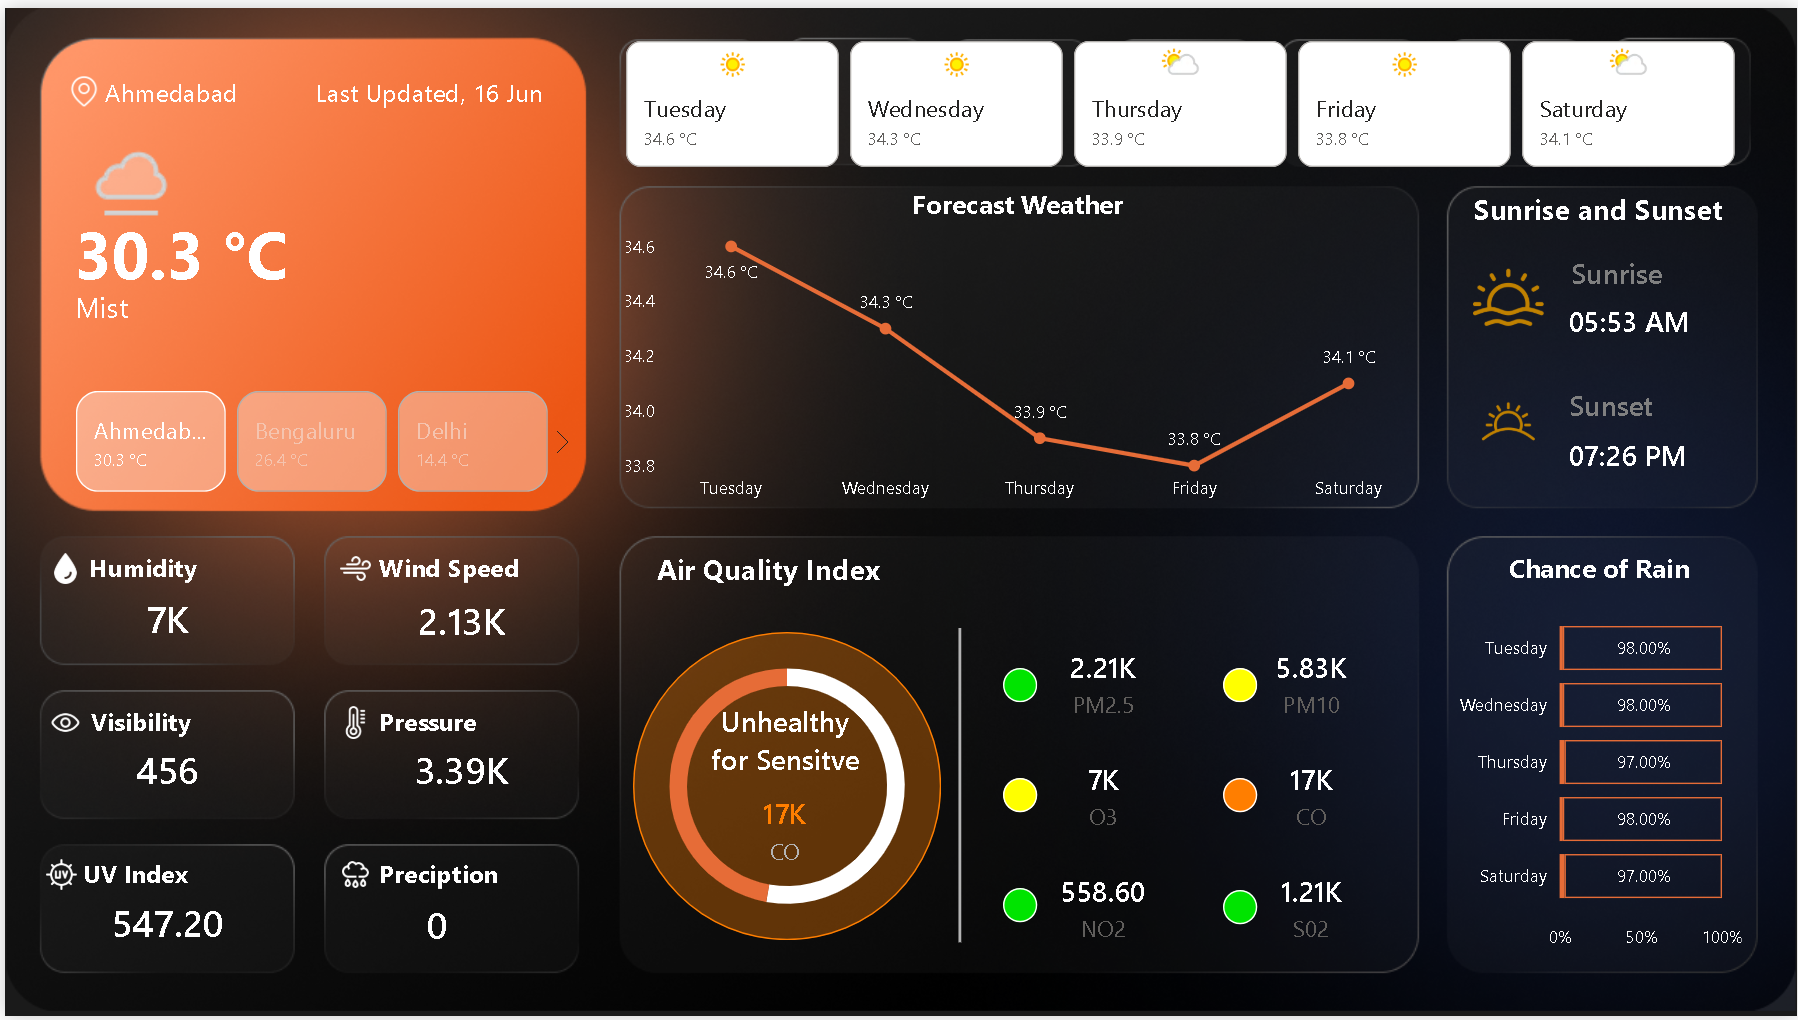

The dashboard page shown, as its layout file describes it:
{"tool":"powerbi","page":{"name":"Overview","canvas":[1280,720],"ordinal":0},"visuals":[{"type":"advancedSlicerVisual","fields":{"Values":["locations.location.name"]},"box":[26,269,388.3,82.5],"z":0},{"type":"shape","box":[50.4,117.7,223.2,114.6],"z":1000},{"type":"shape","box":[50.4,155.9,223.2,114.6],"z":2000},{"type":"shape","box":[71.8,3.1,223.2,114.6],"z":3000},{"type":"shape","box":[162,3.1,223.2,114.6],"z":4000},{"type":"image","box":[45.9,33.6,21.4,50.4],"z":5000},{"type":"cardVisual","fields":{"Data":["Min(Current.current.condition.icon)"]},"box":[26.7,0,126.7,168.3],"z":6000},{"type":"shape","box":[60,386.7,181.7,91.7],"z":7000},{"type":"image","box":[31.7,386.7,23.3,26.7],"z":8000},{"type":"shape","box":[266.7,386.7,181.7,91.7],"z":9000},{"type":"shape","box":[61.7,496.7,181.7,91.7],"z":10000},{"type":"shape","box":[266.7,496.7,181.7,91.7],"z":11000},{"type":"shape","box":[55,605,181.7,91.7],"z":12000},{"type":"shape","box":[266.7,605,181.7,91.7],"z":13000},{"type":"image","box":[31.7,496.7,23.3,26.7],"z":14000},{"type":"image","box":[28.3,605,23.3,26.7],"z":15000},{"type":"image","box":[238.3,386.7,23.3,26.7],"z":16000},{"type":"image","box":[238.3,496.7,23.3,26.7],"z":17000},{"type":"image","box":[238.3,605,23.3,26.7],"z":18000},{"type":"cardVisual","fields":{"Data":["Sum(Current.current.humidity)"]},"box":[26.7,388.3,178.3,91.7],"z":19000},{"type":"cardVisual","fields":{"Data":["Sum(Current.current.wind_kph)"]},"box":[236.7,390,178.3,91.7],"z":20000},{"type":"cardVisual","fields":{"Data":["Sum(Current.current.vis_km)"]},"box":[26.7,496.7,178.3,91.7],"z":21000},{"type":"cardVisual","fields":{"Data":["Sum(Current.current.uv)"]},"box":[26.7,605,178.3,91.7],"z":22000},{"type":"cardVisual","fields":{"Data":["Sum(Current.current.pressure_in)"]},"box":[236.7,496.7,178.3,91.7],"z":23000},{"type":"cardVisual","fields":{"Data":["Sum(Current.current.precip_in)"]},"box":[220,606.7,178.3,91.7],"z":24000},{"type":"advancedSlicerVisual","fields":{"Values":["Forecost_Day.Day_Name"]},"box":[438.3,18.3,806.7,100],"z":25000},{"type":"lineChart","title":"Forecast Weather","fields":{"Y":["Sum(Forecost_Day.forecast.forecastday.day.avgtemp_c)"],"Category":["Forecost_Day.Day_Name"]},"box":[438.7,126.9,570.2,233.9],"z":26000},{"type":"shape","box":[1031.8,129.9,214,91.7],"z":27000},{"type":"shape","box":[1119,175.8,76.4,33.6],"z":28000},{"type":"shape","box":[1117.5,209.4,99.4,33.6],"z":29000},{"type":"shape","box":[1117.5,270.6,74.9,32.1],"z":30000},{"type":"shape","box":[1117.5,305.7,99.4,32.1],"z":31000},{"type":"image","box":[1048.7,181.9,50.4,50.4],"z":32000},{"type":"image","box":[1048.7,270.6,50.4,50.4],"z":33000},{"type":"hundredPercentStackedBarChart","title":"Chance of Rain","fields":{"Y":["Sum(Forecost_Day.forecast.forecastday.day.daily_chance_of_rain)","_Measures.Left_Value_Rain"],"Category":["Forecost_Day.Day_Name"]},"box":[1031.8,386.8,214,295],"z":34000},{"type":"cardVisual","fields":{"Data":["Sum(Current.current.air_quality.so2)"]},"box":[859.1,602.3,149.8,79.5],"z":35000},{"type":"shape","box":[438.7,386.8,214,32.1],"z":36000},{"type":"cardVisual","fields":{"Data":["Sum(Current.current.air_quality.co)"]},"box":[859.1,522.8,149.8,79.5],"z":37000},{"type":"cardVisual","fields":{"Data":["Sum(Current.current.air_quality.pm10)"]},"box":[859.1,443.3,149.8,79.5],"z":38000},{"type":"cardVisual","fields":{"Data":["Sum(Current.current.air_quality.pm2_5)"]},"box":[709.3,443.3,149.8,79.5],"z":39000},{"type":"cardVisual","fields":{"Data":["Sum(Current.current.air_quality.o3)"]},"box":[709.3,522.8,149.8,79.5],"z":40000},{"type":"cardVisual","fields":{"Data":["Sum(Current.current.air_quality.no2)"]},"box":[709.3,602.3,149.8,79.5],"z":41000},{"type":"shape","box":[869.8,629.8,24.5,24.5],"z":42000},{"type":"shape","box":[712.4,628.3,24.5,24.5],"z":43000},{"type":"shape","box":[712.4,550.3,24.5,24.5],"z":44000},{"type":"shape","box":[712.4,470.8,24.5,24.5],"z":45000},{"type":"shape","box":[869.8,470.8,24.5,24.5],"z":46000},{"type":"shape","box":[869.8,550.3,24.5,24.5],"z":47000},{"type":"shape","box":[447.9,446.4,220.1,220.1],"z":47500},{"type":"shape","box":[606.9,443.3,149.8,224.7],"z":48000},{"type":"donutChart","fields":{"Y":["Sum(Current.current.air_quality.co)","_Measures.Left_value_CO"]},"box":[447.9,446.4,220.1,220.1],"z":48500},{"type":"cardVisual","fields":{"Data":["Sum(Current.current.air_quality.co)"]},"box":[490.7,495.3,134.5,134.5],"z":49000}]}

Visuals, with their boxes in screenshot pixels (x1, y1, x2, y2), scaled from the page's 1280x720 canvas onto the 1798x1020 screenshot:
advancedSlicerVisual - locations.location.name: (37,381,582,498)
shape: (71,167,384,329)
shape: (71,221,384,383)
shape: (101,4,414,167)
shape: (228,4,541,167)
image: (64,48,95,119)
cardVisual - Min(Current.current.condition.icon): (38,0,215,238)
shape: (84,548,340,678)
image: (45,548,77,586)
shape: (375,548,630,678)
shape: (87,704,342,834)
shape: (375,704,630,834)
shape: (77,857,332,987)
shape: (375,857,630,987)
image: (45,704,77,741)
image: (40,857,72,895)
image: (335,548,367,586)
image: (335,704,367,741)
image: (335,857,367,895)
cardVisual - Sum(Current.current.humidity): (38,550,288,680)
cardVisual - Sum(Current.current.wind_kph): (332,552,583,682)
cardVisual - Sum(Current.current.vis_km): (38,704,288,834)
cardVisual - Sum(Current.current.uv): (38,857,288,987)
cardVisual - Sum(Current.current.pressure_in): (332,704,583,834)
cardVisual - Sum(Current.current.precip_in): (309,859,559,989)
advancedSlicerVisual - Forecost_Day.Day_Name: (616,26,1749,168)
"Forecast Weather" lineChart: (616,180,1417,511)
shape: (1449,184,1750,314)
shape: (1572,249,1679,297)
shape: (1570,297,1709,344)
shape: (1570,383,1675,429)
shape: (1570,433,1709,479)
image: (1473,258,1544,329)
image: (1473,383,1544,455)
"Chance of Rain" hundredPercentStackedBarChart: (1449,548,1750,966)
cardVisual - Sum(Current.current.air_quality.so2): (1207,853,1417,966)
shape: (616,548,917,593)
cardVisual - Sum(Current.current.air_quality.co): (1207,741,1417,853)
cardVisual - Sum(Current.current.air_quality.pm10): (1207,628,1417,741)
cardVisual - Sum(Current.current.air_quality.pm2_5): (996,628,1207,741)
cardVisual - Sum(Current.current.air_quality.o3): (996,741,1207,853)
cardVisual - Sum(Current.current.air_quality.no2): (996,853,1207,966)
shape: (1222,892,1256,927)
shape: (1001,890,1035,925)
shape: (1001,780,1035,814)
shape: (1001,667,1035,702)
shape: (1222,667,1256,702)
shape: (1222,780,1256,814)
shape: (629,632,938,944)
shape: (853,628,1063,946)
donutChart - Sum(Current.current.air_quality.co) x _Measures.Left_value_CO: (629,632,938,944)
cardVisual - Sum(Current.current.air_quality.co): (689,702,878,892)
